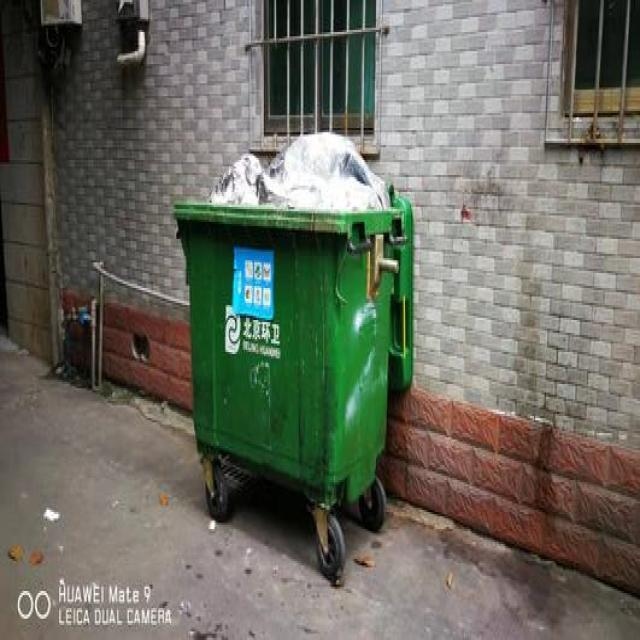overflow: (174, 128, 414, 501)
